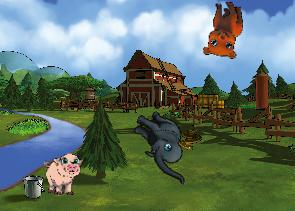bear: (201, 0, 243, 59)
elephant: (119, 105, 206, 185)
pig: (43, 153, 83, 196)
